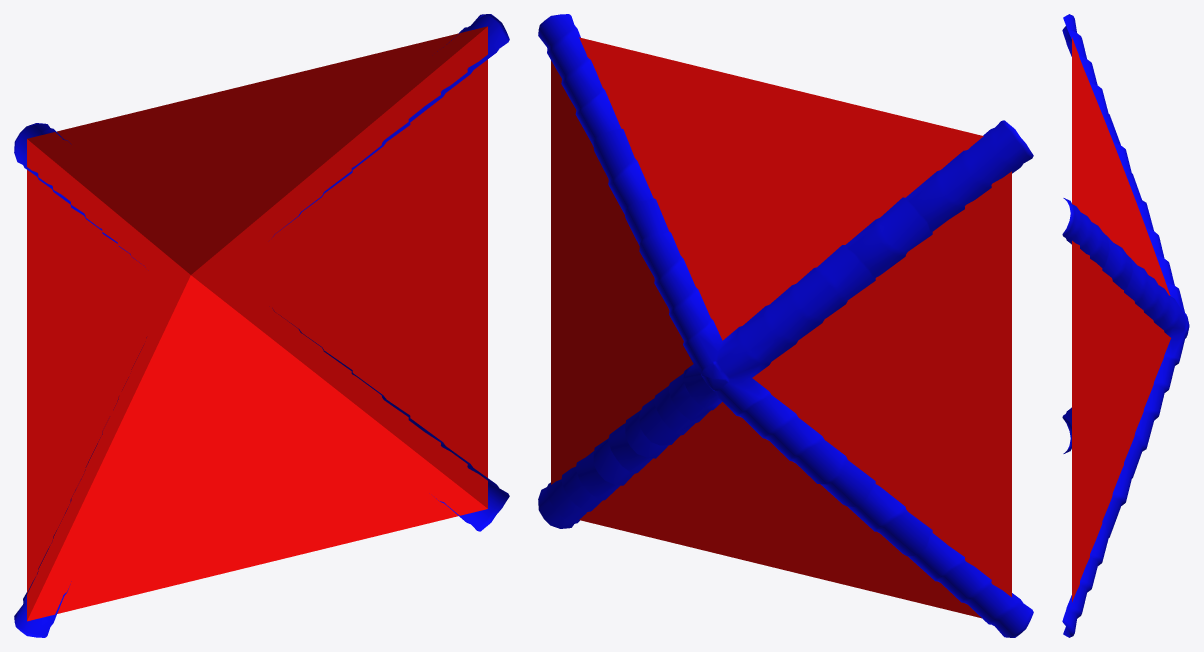
File: SM_Human_roof.fbx
3 views of the same model, side by side, from view 1: azimuth 30°, elevation 25°; view 2: azimuth 150°, elevation 25°; view 3: azimuth 270°, elevation 25° (orthographic). The views are drawn at different scales.
Visible parts, largest first — view 1: Plane001; view 2: Plane001; view 3: Plane001.
Part boxes in pixels (bbox=[...]): Plane001: bbox=[14, 14, 509, 637]; Plane001: bbox=[538, 14, 1033, 637]; Plane001: bbox=[1062, 14, 1189, 637].
Bounding box in the file's own units: 107 × 107 × 28.14.
